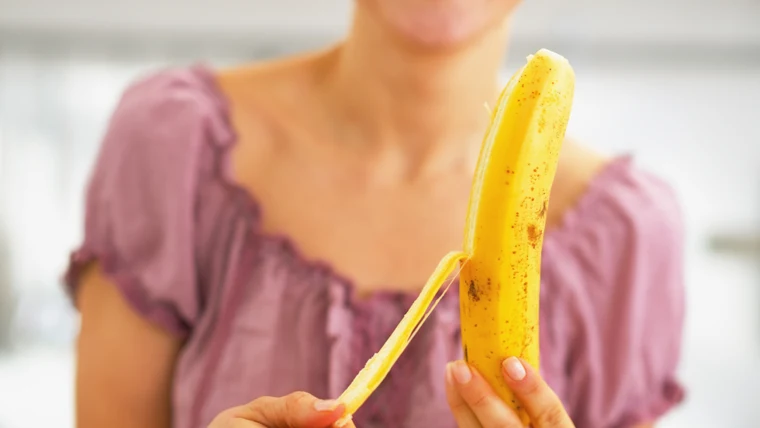banana: (445, 43, 606, 428)
